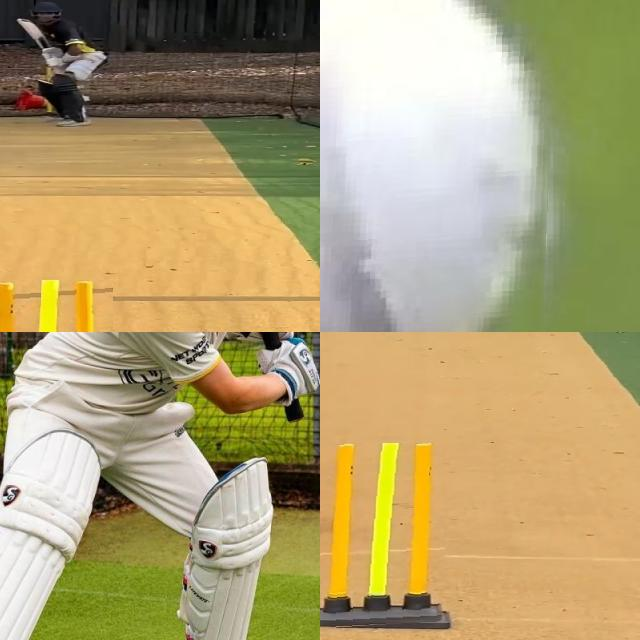Cricket ball: (320, 0, 560, 332)
Stumps: (320, 443, 451, 629), (0, 280, 112, 332)
